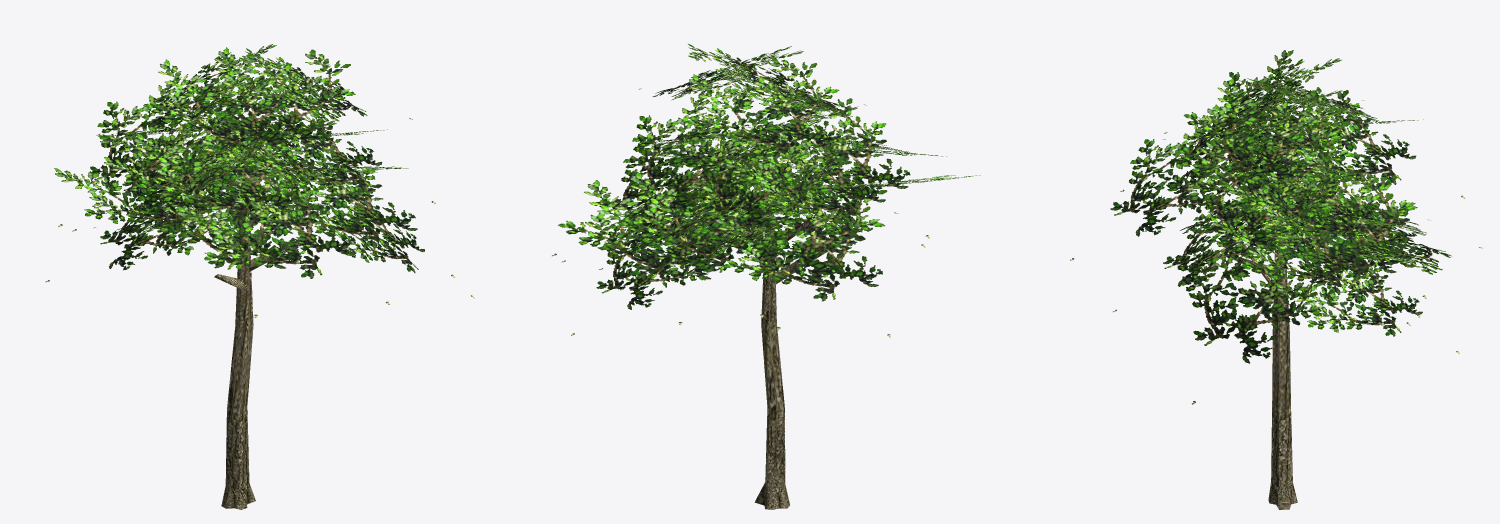
The model's file is tree_tropic_2.glb.
3 renders of one model, left to right at view 1: azimuth 30°, elevation 25°; view 2: azimuth 150°, elevation 25°; view 3: azimuth 270°, elevation 25°, orthographic. The views are drawn at different scales.
Parts seen in each view (by area): view 1: tree_tropic_2; view 2: tree_tropic_2; view 3: tree_tropic_2.
Boxes of the visible parts, x1,y1,x2,y2 form: tree_tropic_2: [45, 44, 474, 509]; tree_tropic_2: [552, 44, 980, 509]; tree_tropic_2: [1070, 50, 1482, 509].
Bounding box in the file's own units: 11.99 × 11.22 × 9.95.
Materials: 2 (2 with a texture image).
